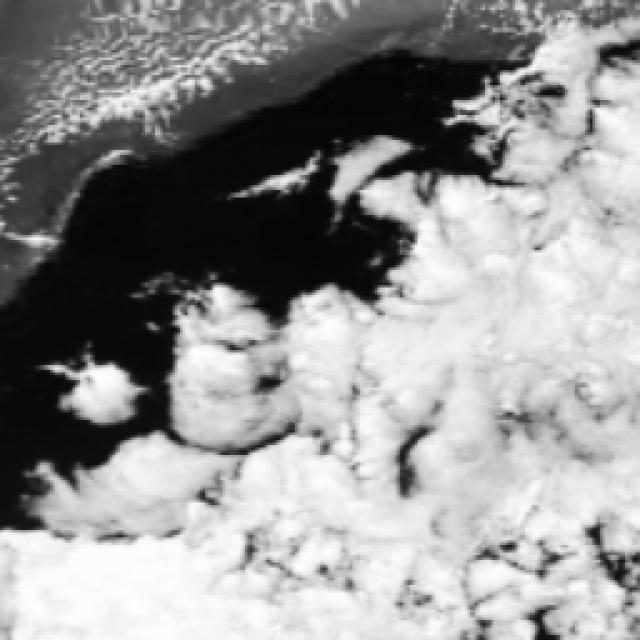CB: (432, 217, 638, 366), (426, 365, 640, 507), (32, 549, 226, 640)
